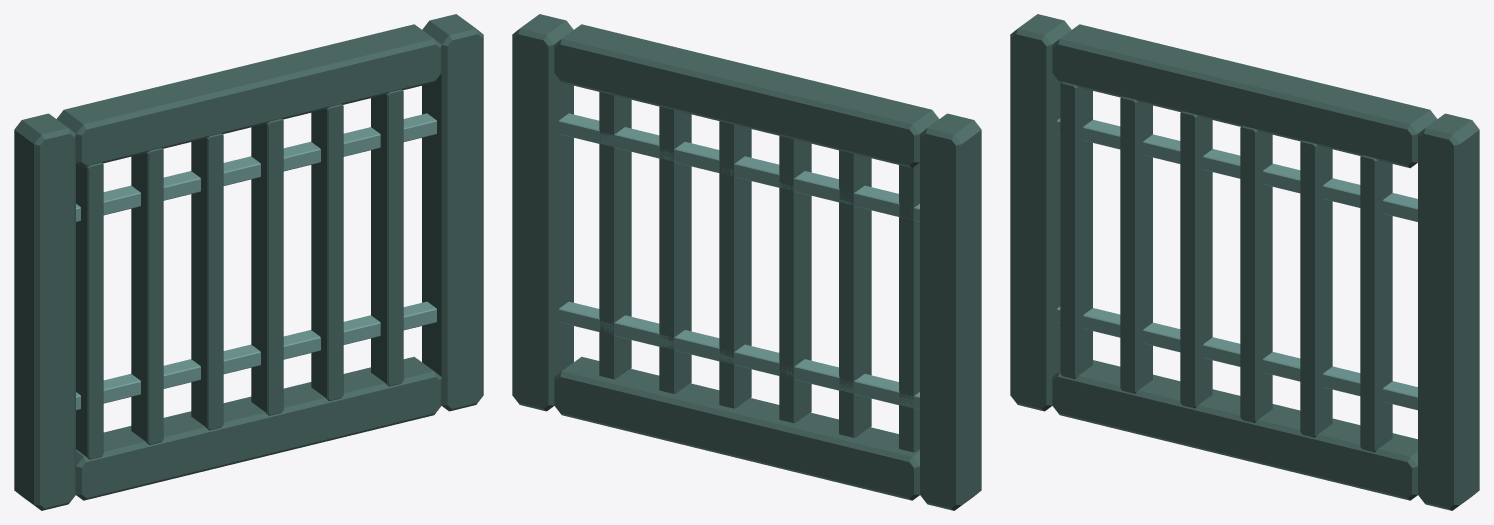
Rendered from wall-grille.glb.
3 renders of one model, left to right at view 1: azimuth 30°, elevation 25°; view 2: azimuth 150°, elevation 25°; view 3: azimuth 330°, elevation 25°, orthographic.
Parts seen in each view (by area): view 1: wall-grille__body; view 2: wall-grille__body; view 3: wall-grille__body.
Boxes of the visible parts, x1,y1,x2,y2 form: wall-grille__body: (14,14,483,510); wall-grille__body: (512,14,981,510); wall-grille__body: (1010,14,1479,510).
Bounding box in the file's own units: 1.5 × 1.2 × 0.14.
